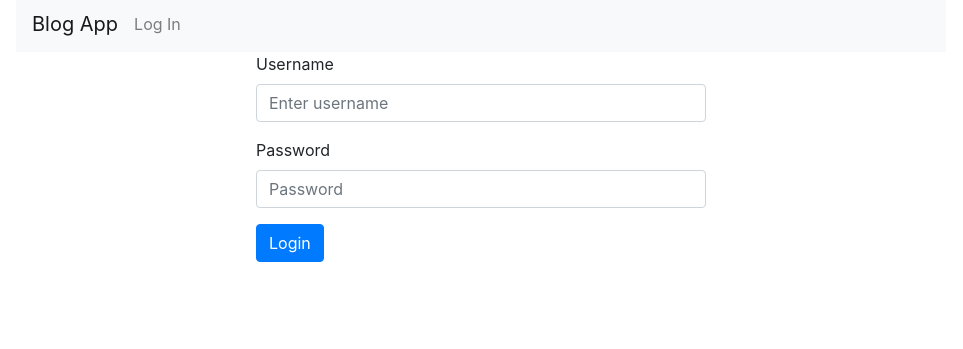
Test: Blog app › Login › fails with wrong credentials
In the field with id "username": (481,103) top-left (256, 84), bottom-right (706, 122), type "username"
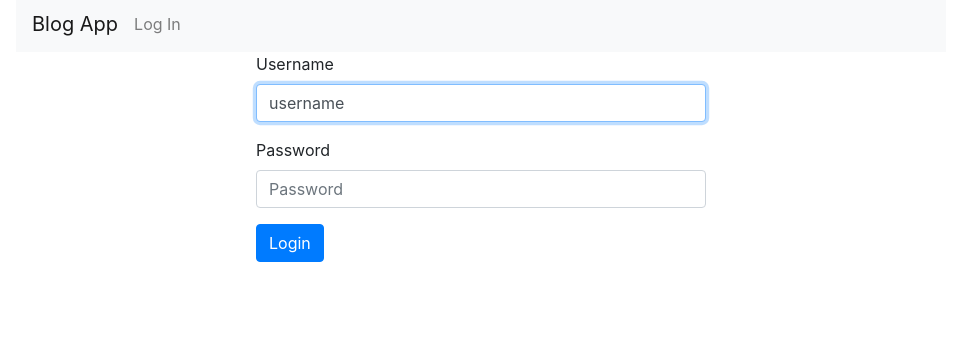
In the password field with placeholder "Password": (481,189) top-left (256, 170), bottom-right (706, 208), type "wrong"
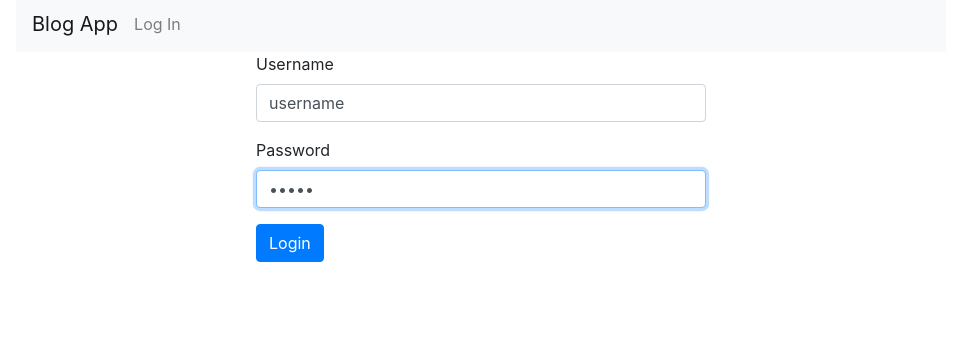
Click the button with id "login-button": (290,243) top-left (256, 224), bottom-right (324, 262)
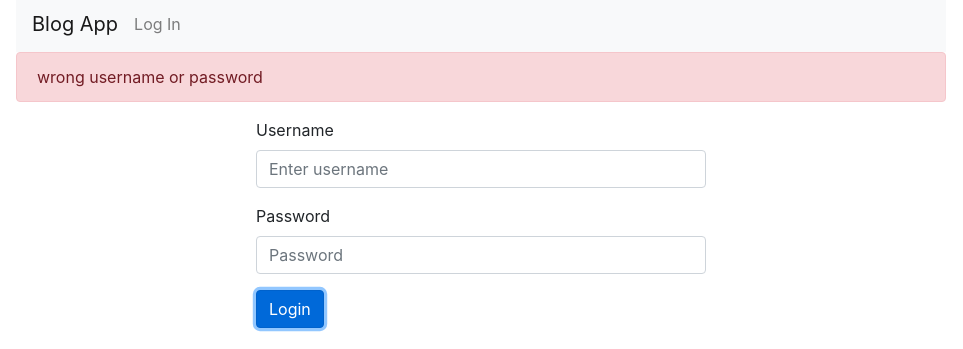
Result: the message with class "notification" reads "wrong username or password" at top-left (37, 67), bottom-right (263, 87)
